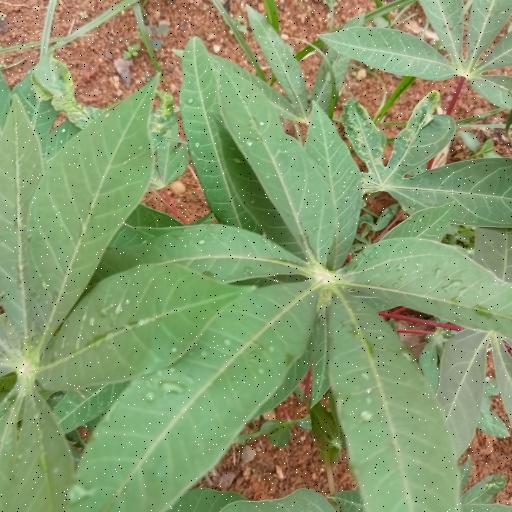Cassava_Mosaic: (91, 54, 512, 512), (5, 95, 226, 512), (337, 104, 512, 226)
